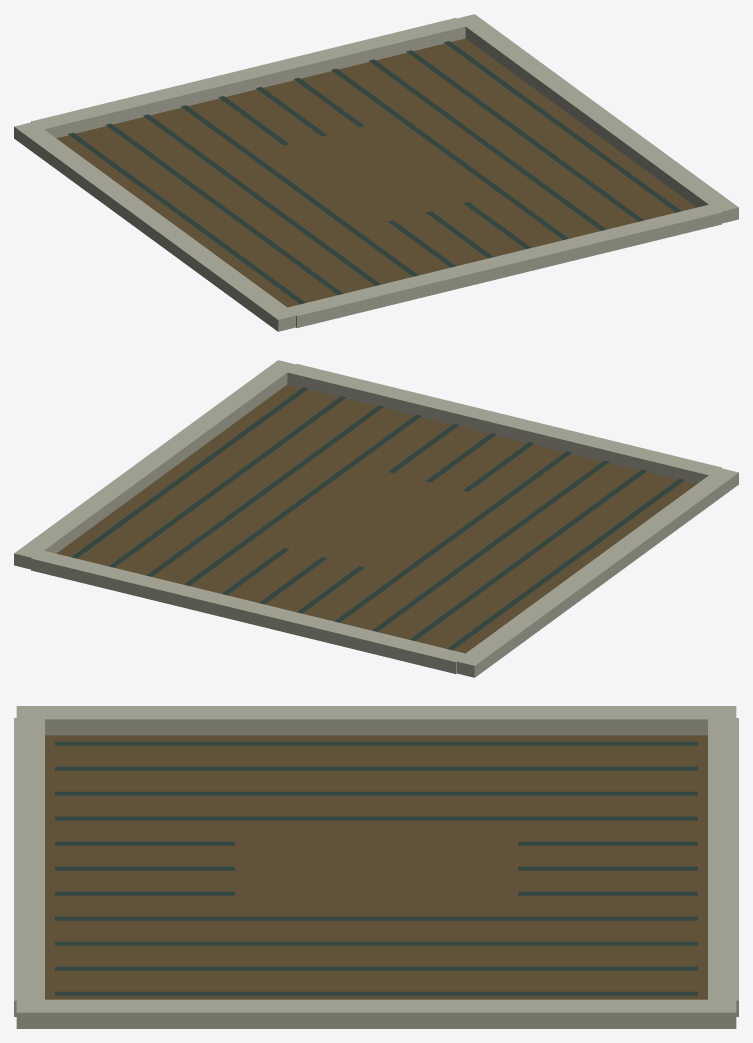
Rendered from TreePit.obj.
The picture shows the model from 3 angles, top to bottom: view 1: azimuth 30°, elevation 25°; view 2: azimuth 150°, elevation 25°; view 3: azimuth 270°, elevation 25°; orthographic projection. The views are drawn at different scales.
Parts seen in each view (by area): view 1: TreePit; view 2: TreePit; view 3: TreePit.
Part boxes in pixels (left/top/right/bottom): TreePit: left=14, top=14, right=738, bottom=331; TreePit: left=14, top=360, right=738, bottom=677; TreePit: left=14, top=706, right=738, bottom=1028.
Bounding box in the file's own units: 2.82 × 0.07 × 2.82.
Materials: 1 (1 with a texture image).
